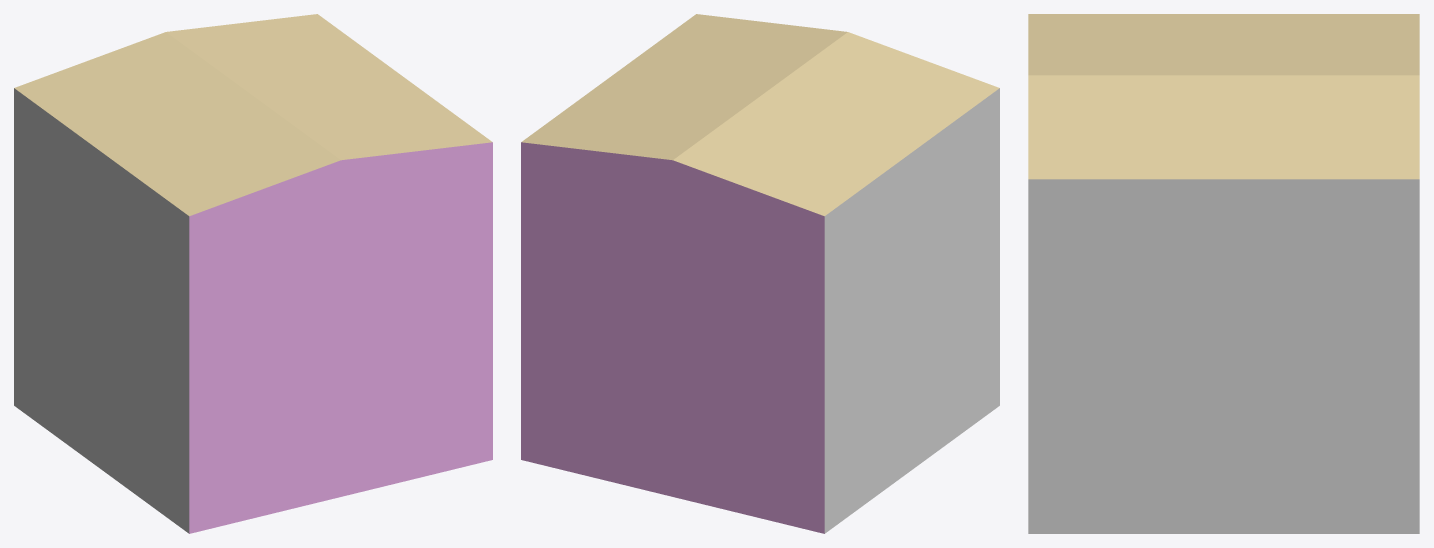
Rendered from Tiered_Walkway_Path_Transition_Straight_1x1.glb.
3 renders of one model, left to right at view 1: azimuth 30°, elevation 25°; view 2: azimuth 150°, elevation 25°; view 3: azimuth 270°, elevation 25°, orthographic. The views are drawn at different scales.
Visible parts, largest first — view 1: Tiered_Walkway_Path_Transition_Straight_1x1; view 2: Tiered_Walkway_Path_Transition_Straight_1x1; view 3: Tiered_Walkway_Path_Transition_Straight_1x1.
Boxes of the visible parts, x1=… form: Tiered_Walkway_Path_Transition_Straight_1x1: x1=14, y1=14, x2=492, y2=533; Tiered_Walkway_Path_Transition_Straight_1x1: x1=521, y1=14, x2=999, y2=533; Tiered_Walkway_Path_Transition_Straight_1x1: x1=1028, y1=14, x2=1419, y2=533.
Bounding box in the file's own units: 100 × 106 × 100.
